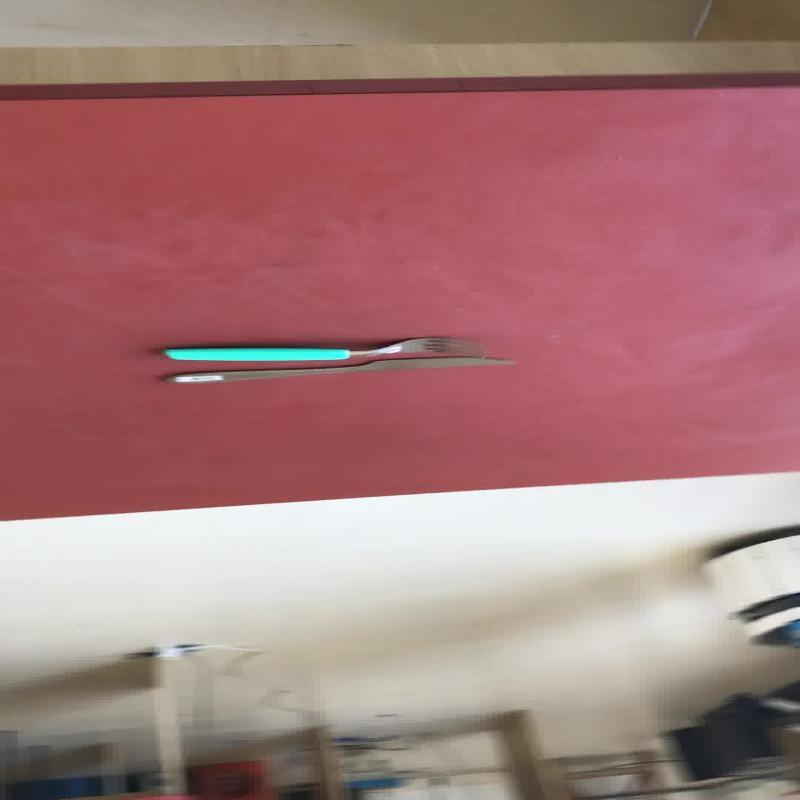fork: (160, 335, 486, 361)
knife: (162, 354, 514, 384)
